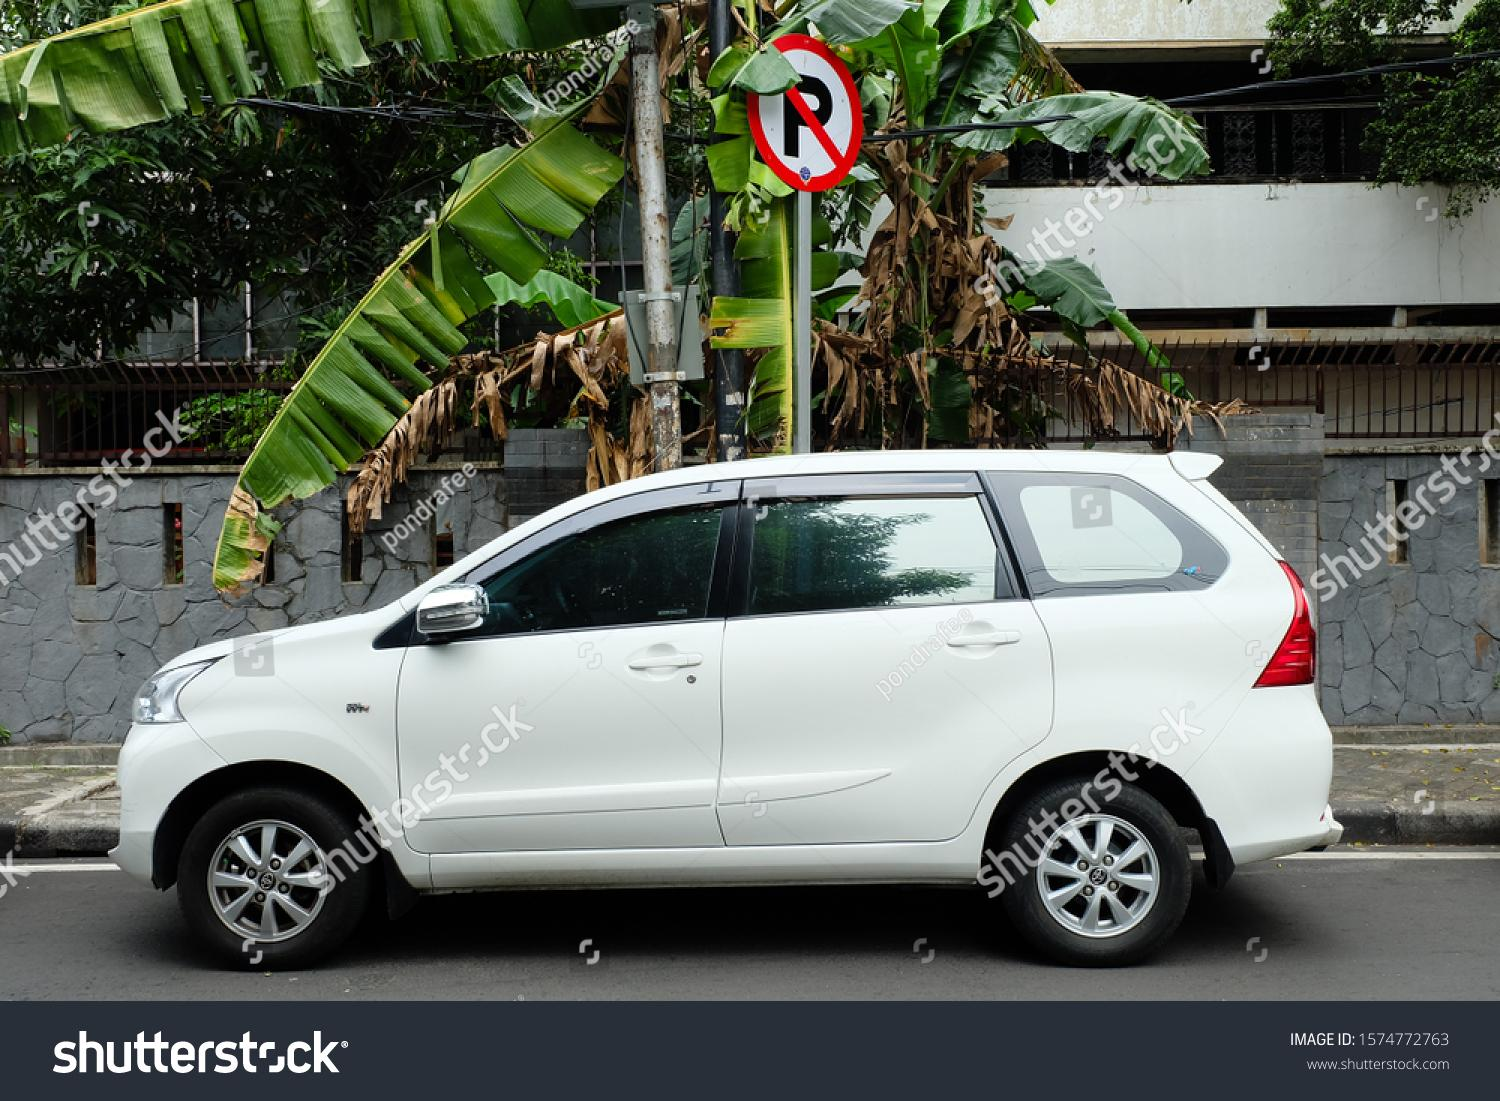No Parking: (745, 26, 869, 198)
